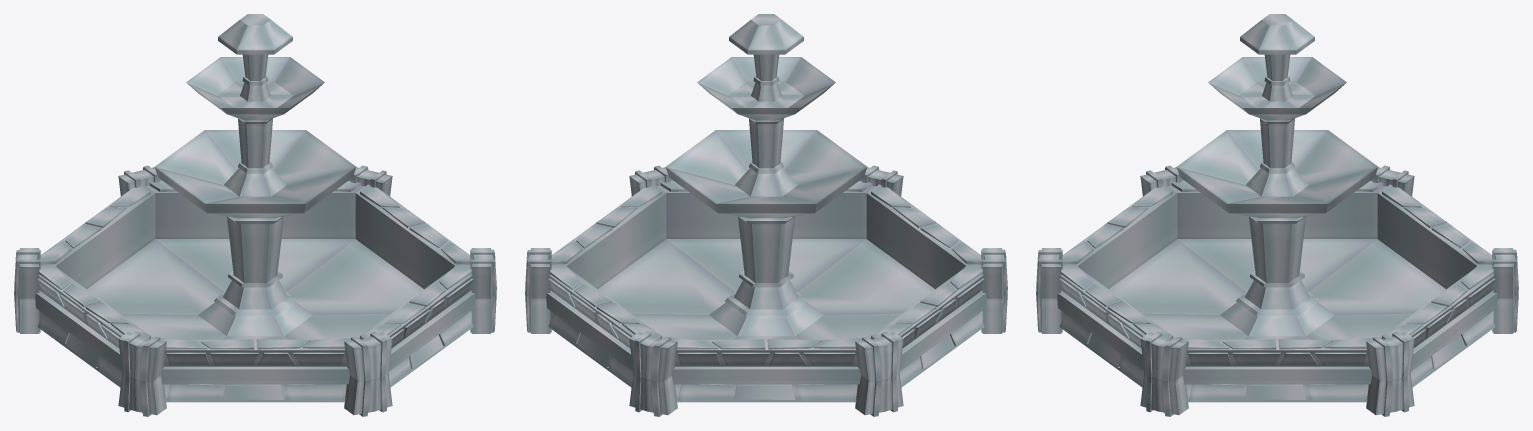
Rendered from fuente.obj.
3 views of the same model, side by side, from view 1: azimuth 30°, elevation 25°; view 2: azimuth 150°, elevation 25°; view 3: azimuth 270°, elevation 25° (orthographic).
Parts seen in each view (by area): view 1: Cylinder_0; view 2: Cylinder_0; view 3: Cylinder_0.
Boxes of the visible parts, <box> form: Cylinder_0: <box>14,14,496,416</box>; Cylinder_0: <box>525,14,1007,416</box>; Cylinder_0: <box>1036,14,1518,416</box>.
Size of the model in its own units: 3.85 by 3.04 by 4.33.
